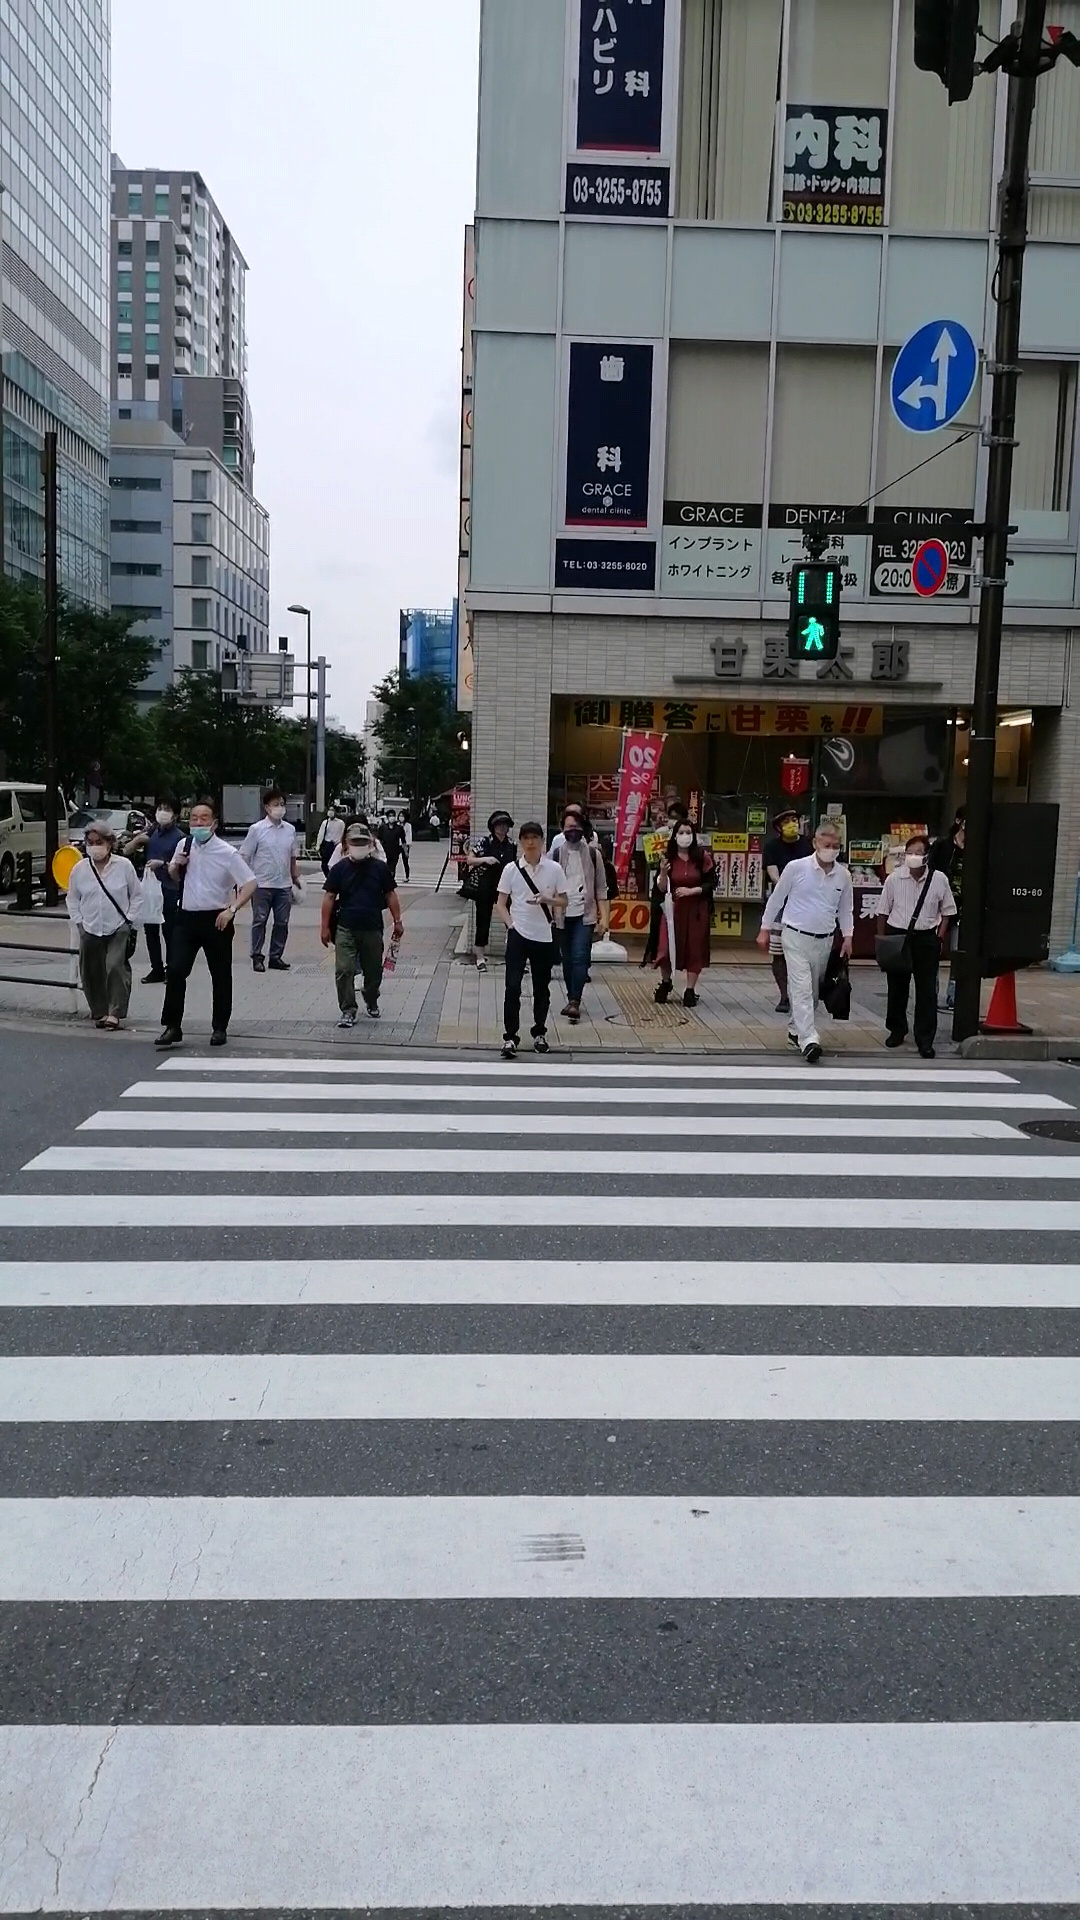green: (789, 562, 840, 661)
